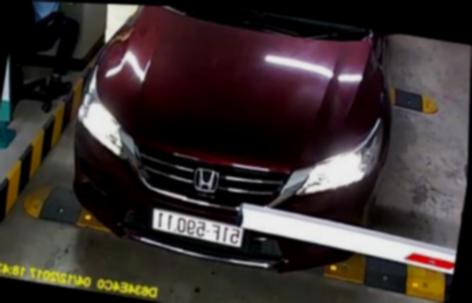License_Plate: (139, 210, 249, 246)
